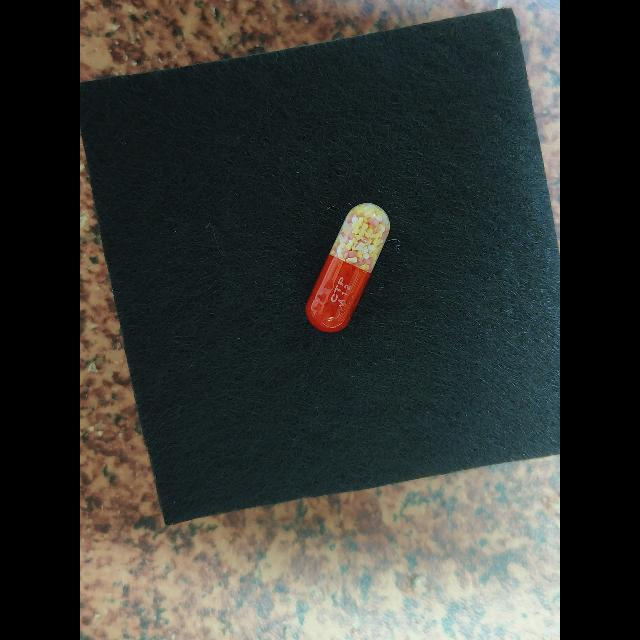Intact Capsule: (306, 203, 390, 333)
